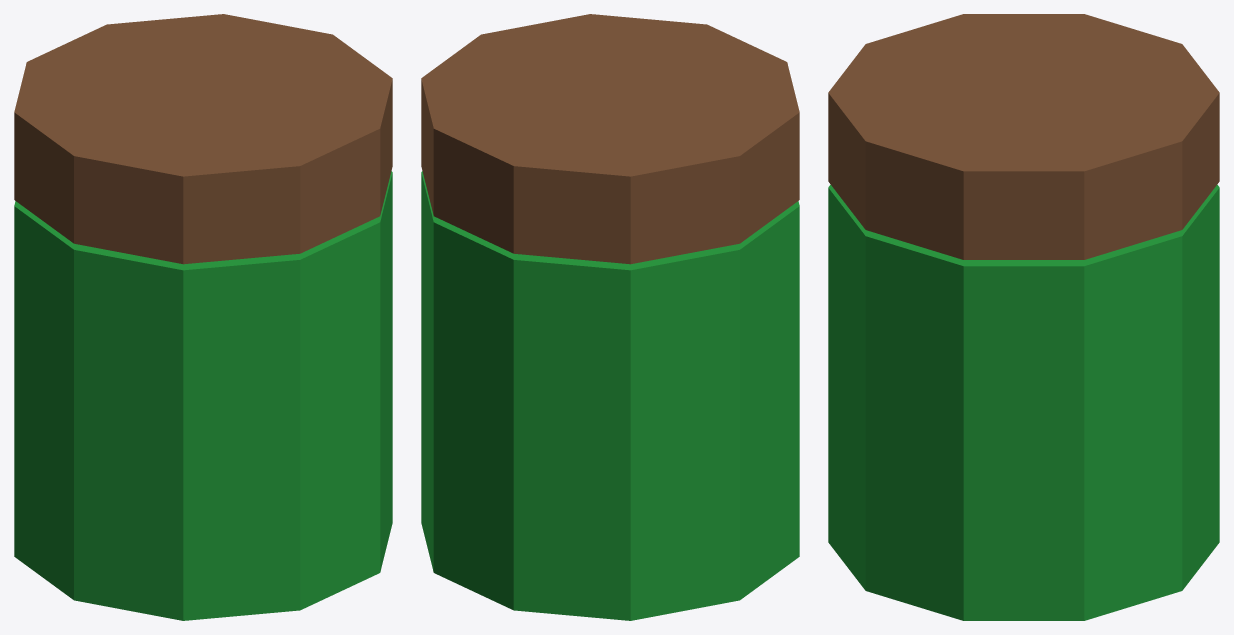
File: pesto.fbx
The picture shows the model from 3 angles, left to right: view 1: azimuth 30°, elevation 25°; view 2: azimuth 150°, elevation 25°; view 3: azimuth 270°, elevation 25°; orthographic projection.
Visible parts, largest first — view 1: Cylinder, Cylinder.001; view 2: Cylinder, Cylinder.001; view 3: Cylinder, Cylinder.001.
Part boxes in pixels (box(x1,y1,x2,y2)): Cylinder: box(14, 171, 392, 620); Cylinder.001: box(14, 14, 392, 264); Cylinder: box(421, 171, 799, 620); Cylinder.001: box(421, 14, 799, 264); Cylinder: box(828, 184, 1219, 620); Cylinder.001: box(828, 14, 1219, 259).
Size of the model in its own units: 190 by 253 by 200.
